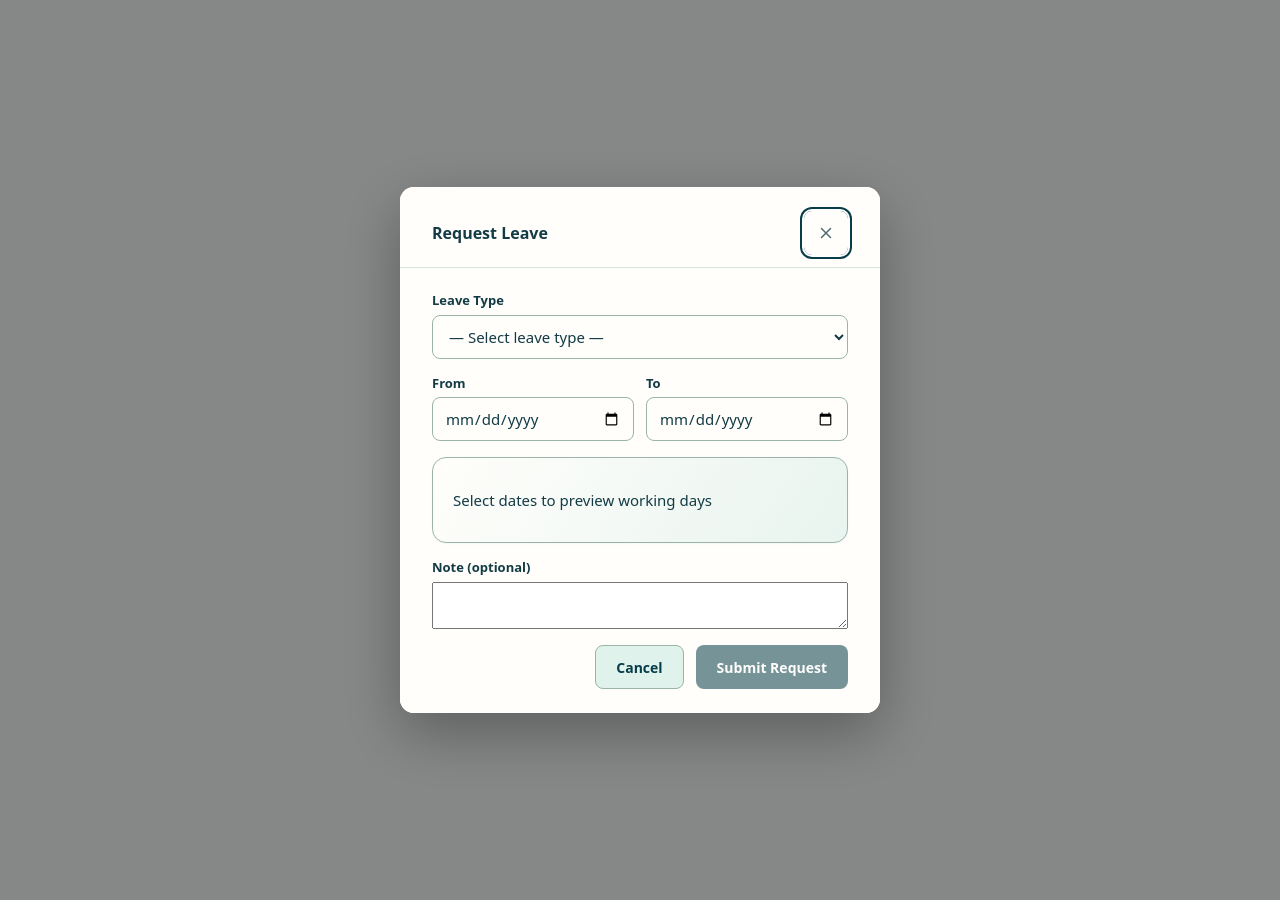
Test case: RequestLeaveModal — Story 3.3 › [P0] disables submit and shows alert when preview returns zero working days
Select "🌴 Annual Leave" in the dropdown labelled "Leave Type": (640, 336) [432,314,848,358]
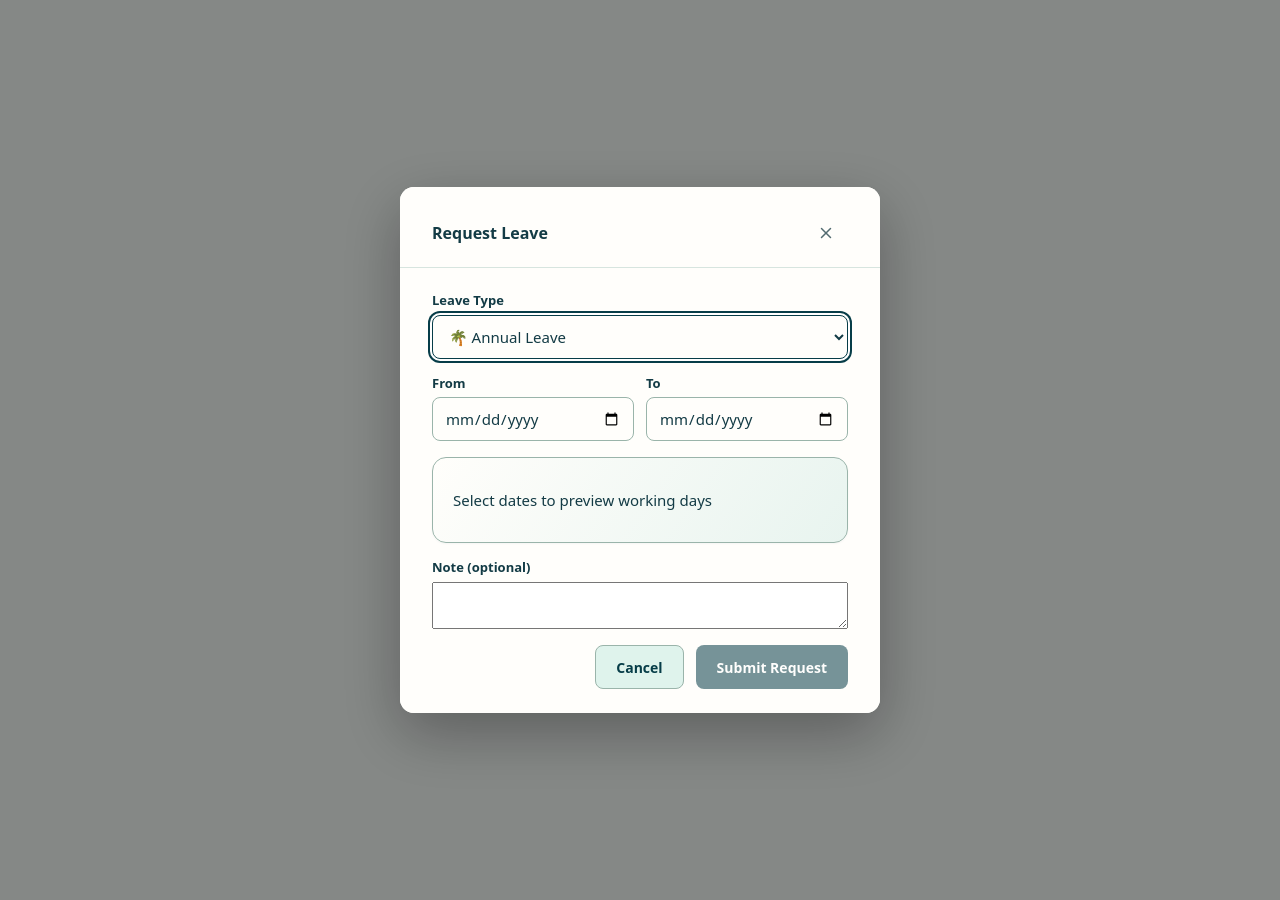
In the date field with test id "leave-from-date": (533, 419) [432,397,634,441], type "2026-06-06"
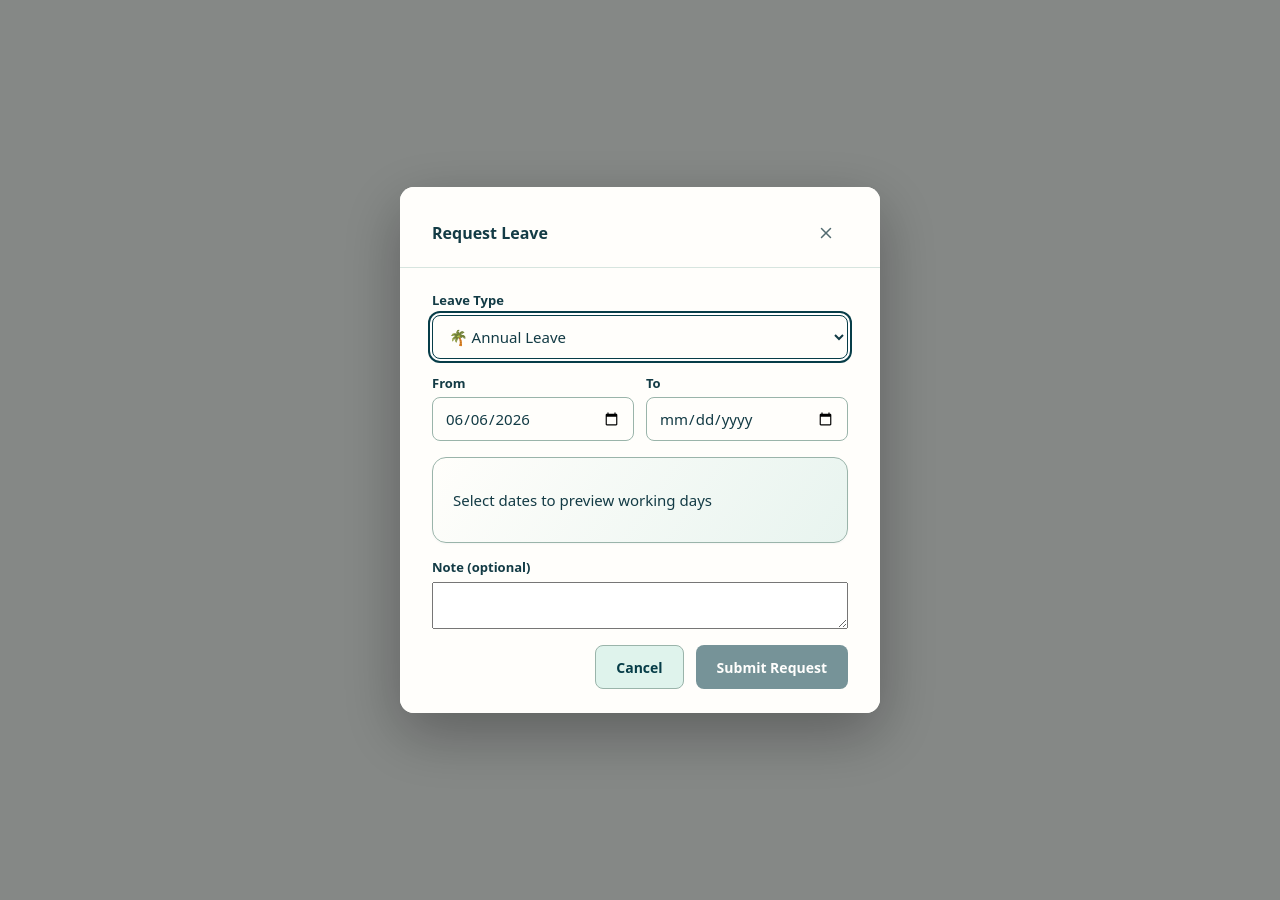
In the date field with test id "leave-to-date": (747, 419) [646,397,848,441], type "2026-06-07"
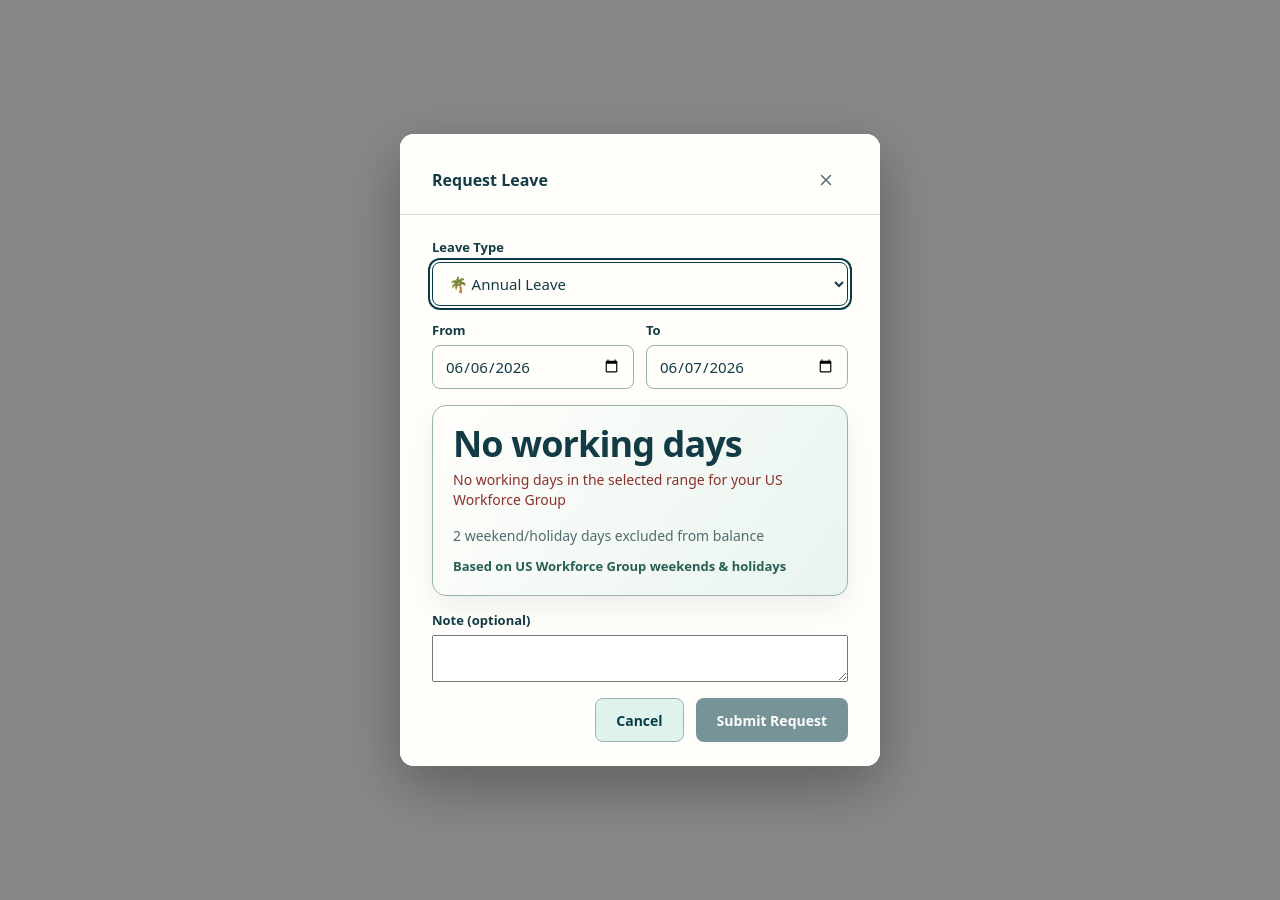
Expected: the button with test id "submit-request-btn" is disabled, [696,698,848,742]
Expected: the message shows "No working days", [453,418,742,468]
